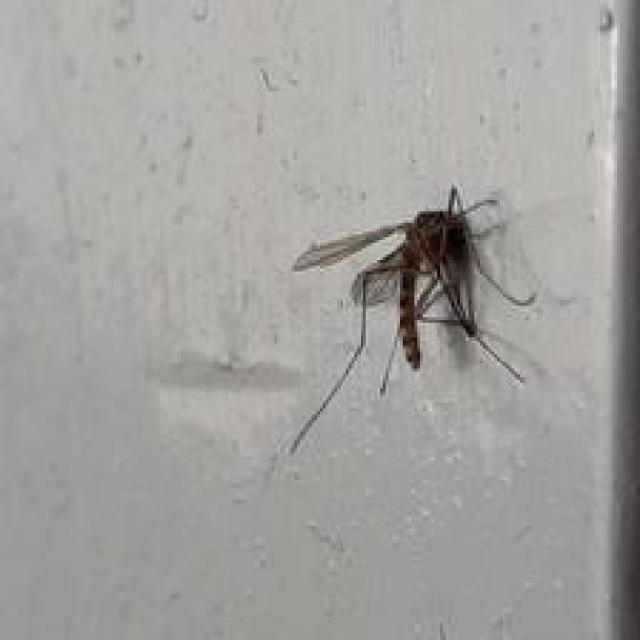Culex: (283, 181, 540, 456)
